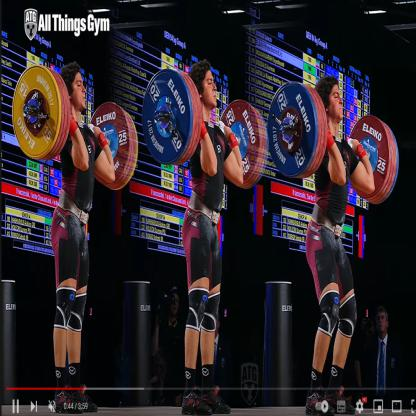Barbell: (264, 70, 322, 182), (141, 66, 199, 177), (9, 60, 66, 172)
